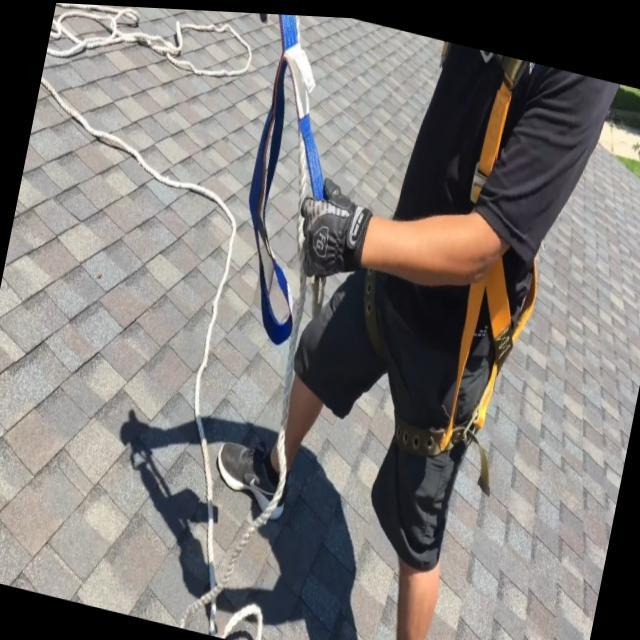belt: (304, 19, 599, 507)
